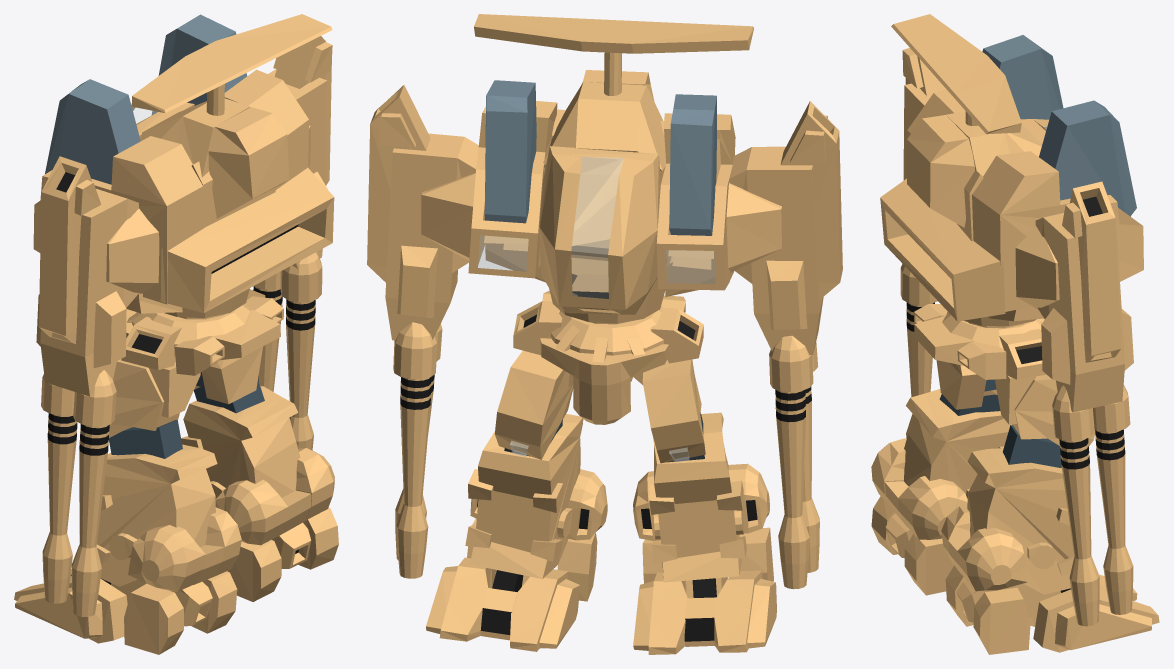
Rendered from sd-macross-defender-destroid-by-tipatat-chennavasin-8dnClc2cp12.glb.
3 renders of one model, left to right at view 1: azimuth 30°, elevation 25°; view 2: azimuth 150°, elevation 25°; view 3: azimuth 270°, elevation 25°, orthographic. The views are drawn at different scales.
Parts seen in each view (by area): view 1: group728245436, group1148968368, group956724553, group1162267447, group1051570865, group1792460247, group2092722019, group764516490, group1488849434, group1255326329, group759171181, group471669064 (+24 smaller); view 2: group728245436, group956724553, group680300589, group1162267447, group2092722019, group1051570865, group764516490, group1792460247, group1972065428, group1762794722, group1255326329, group1421538646 (+24 smaller); view 3: group956724553, group1148968368, group1762794722, group2092722019, group1162267447, group764516490, group1972065428, group1051570865, group1488849434, group728245436, group1255326329, group1946195621 (+22 smaller).
Part boxes in pixels (box(x1,y1,x2,y2)): group728245436: box(36, 156, 138, 616); group1148968368: box(160, 168, 334, 312); group956724553: box(253, 36, 332, 450); group1162267447: box(121, 289, 283, 404); group1051570865: box(97, 444, 217, 586); group1792460247: box(33, 136, 204, 304); group2092722019: box(183, 385, 300, 497); group764516490: box(132, 14, 332, 112); group1488849434: box(208, 107, 289, 218); group1255326329: box(45, 79, 140, 184); group759171181: box(215, 479, 311, 545); group471669064: box(128, 525, 205, 591); group728245436: box(729, 101, 842, 589); group956724553: box(367, 85, 478, 578); group680300589: box(539, 146, 660, 314); group1162267447: box(513, 290, 703, 424); group2092722019: box(470, 413, 583, 578); group1051570865: box(653, 412, 741, 582); group764516490: box(474, 14, 753, 53); group1792460247: box(656, 113, 735, 290); group1972065428: box(484, 80, 536, 223); group1762794722: box(468, 101, 557, 278); group1255326329: box(669, 94, 716, 235); group1421538646: box(543, 82, 665, 170); group956724553: box(1035, 181, 1133, 626); group1148968368: box(880, 178, 1005, 321); group1762794722: box(972, 151, 1143, 311); group2092722019: box(967, 448, 1074, 594); group1162267447: box(914, 304, 1046, 409); group764516490: box(891, 14, 1021, 134); group1972065428: box(1039, 100, 1136, 216); group1051570865: box(904, 389, 1011, 494); group1488849434: box(907, 115, 974, 227); group728245436: box(900, 48, 946, 438); group1255326329: box(982, 35, 1063, 128); group1946195621: box(957, 527, 1027, 591).
Size of the model in its own units: 1.07 by 1.53 by 0.7387.
